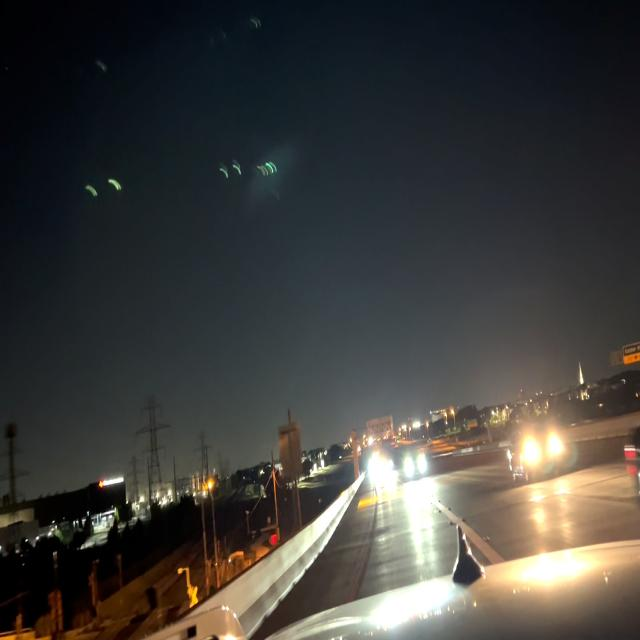back-of-sign: (278, 420, 303, 482)
